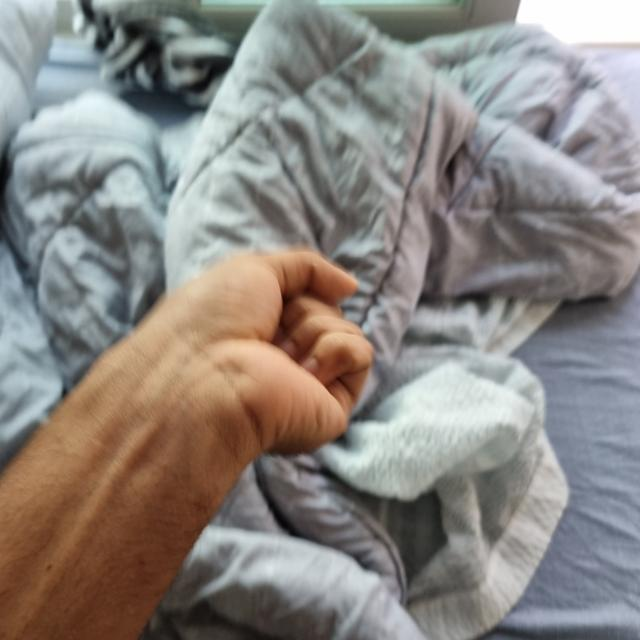Rock: (0, 245, 371, 639)
